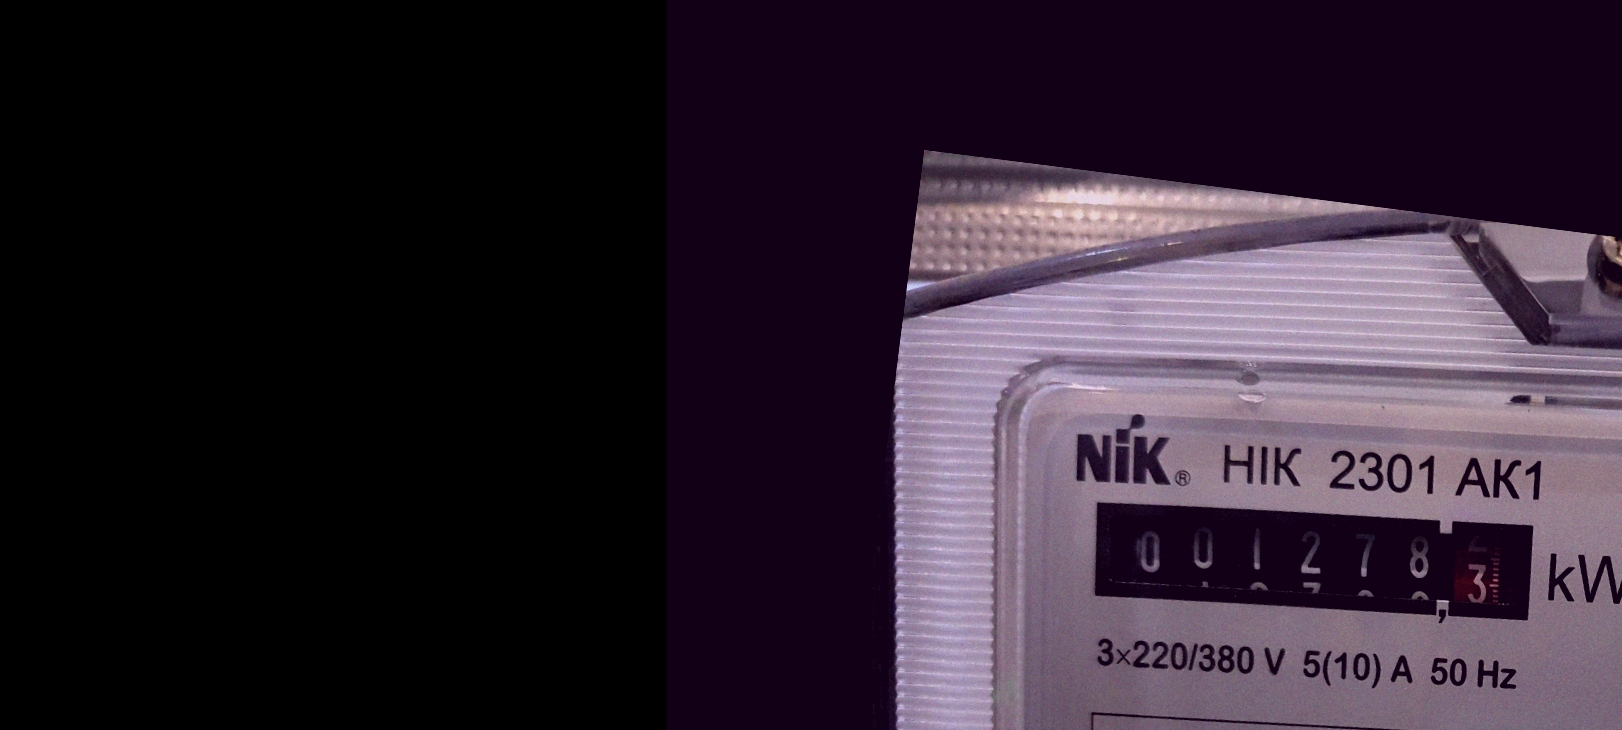0: (1134, 525, 1168, 576), (1188, 522, 1219, 571)
1: (1246, 523, 1270, 573)
2: (1295, 526, 1328, 576), (1464, 533, 1492, 556)
3: (1462, 557, 1493, 604)
7: (1350, 528, 1378, 579)
8: (1404, 531, 1435, 581)
screen: (1067, 458, 1558, 660)
